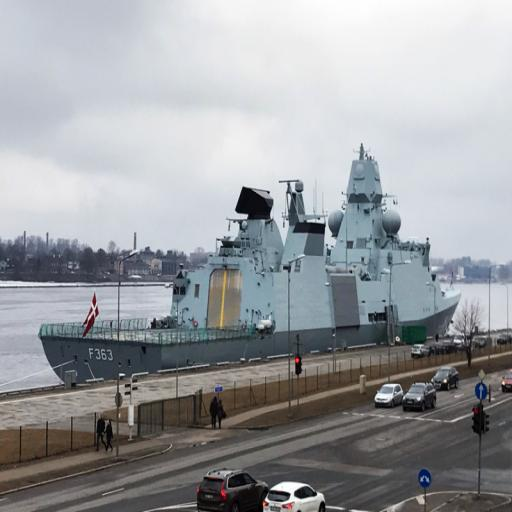Fragata: (37, 135, 466, 393)
